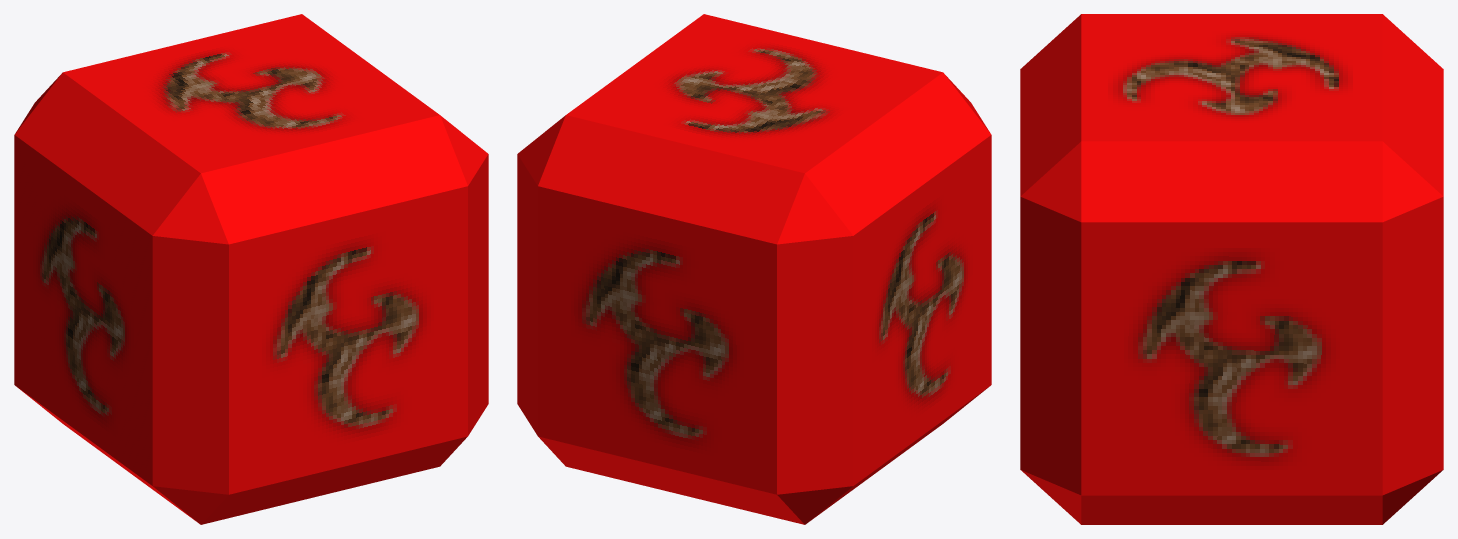
3 renders of one model, left to right at view 1: azimuth 30°, elevation 25°; view 2: azimuth 150°, elevation 25°; view 3: azimuth 270°, elevation 25°, orthographic. The views are drawn at different scales.
Visible parts, largest first — view 1: Symbol; view 2: Symbol; view 3: Symbol.
Boxes of the visible parts, <box> form: Symbol: <box>14,14,488,524</box>; Symbol: <box>517,14,991,524</box>; Symbol: <box>1020,14,1443,524</box>.
Size of the model in its own units: 200 by 200 by 200.
1 material, 1 textured.
